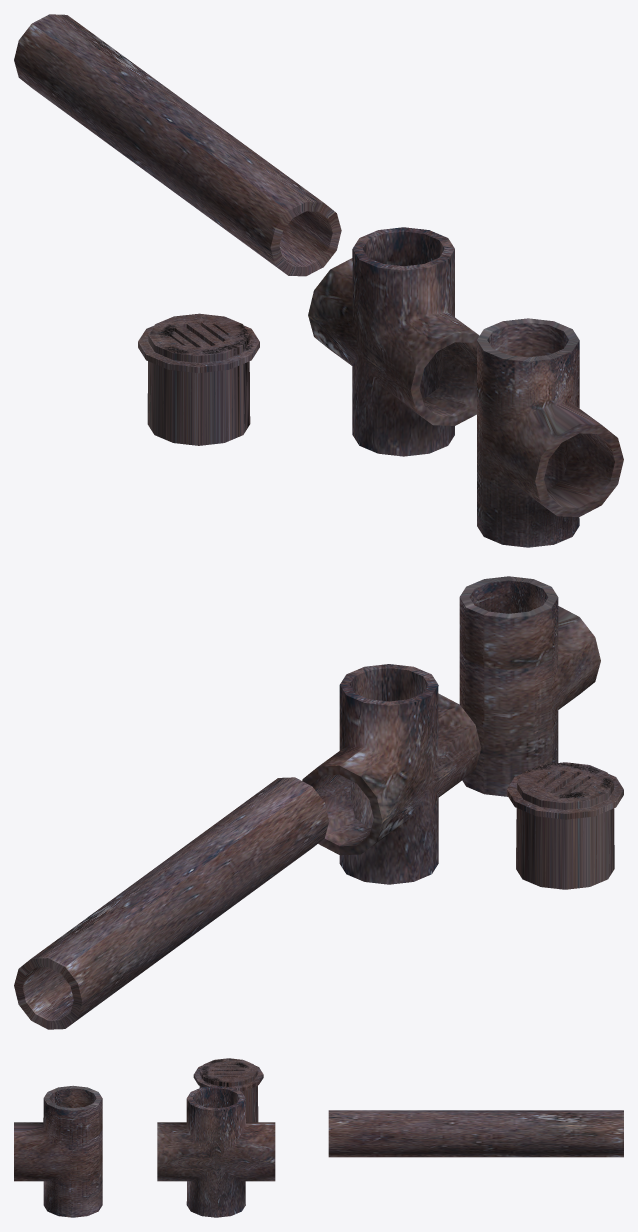
File: pipeParts.obj
3 renders of one model, top to bottom at view 1: azimuth 30°, elevation 25°; view 2: azimuth 150°, elevation 25°; view 3: azimuth 270°, elevation 25°, orthographic. The views are drawn at different scales.
Parts seen in each view (by area): view 1: straightTube, plusConnector, sideConn, drainGround; view 2: straightTube, plusConnector, sideConn, drainGround; view 3: straightTube, plusConnector, sideConn, drainGround.
Part boxes in pixels (box(x1,y1,x2,y2)): straightTube: box(14, 14, 341, 276); plusConnector: box(308, 227, 479, 456); sideConn: box(477, 318, 623, 547); drainGround: box(138, 313, 259, 445); straightTube: box(14, 777, 329, 1029); plusConnector: box(302, 664, 481, 884); sideConn: box(459, 576, 600, 796); drainGround: box(507, 762, 623, 889); straightTube: box(328, 1110, 623, 1157); plusConnector: box(157, 1085, 275, 1217); sideConn: box(14, 1085, 102, 1217); drainGround: box(193, 1058, 263, 1122).
Bounding box in the file's own units: 129 × 78.8 × 407.
1 material, 1 textured.
